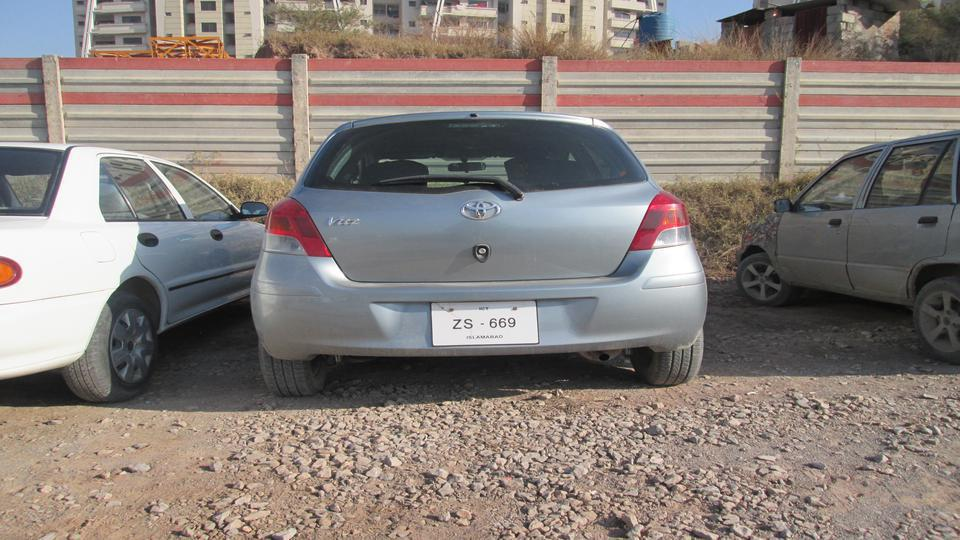NumberPlate: (427, 299, 540, 348)
